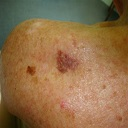Melanoma: (54, 49, 80, 73), (23, 61, 38, 77)
